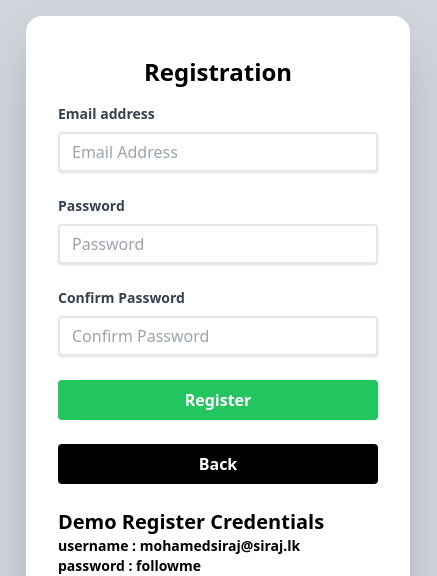
Test: register page › registerw page form submit › unsuccessful submit
The image size is (437, 576).
Click the button "Register": (218, 400) [58,380,378,420]
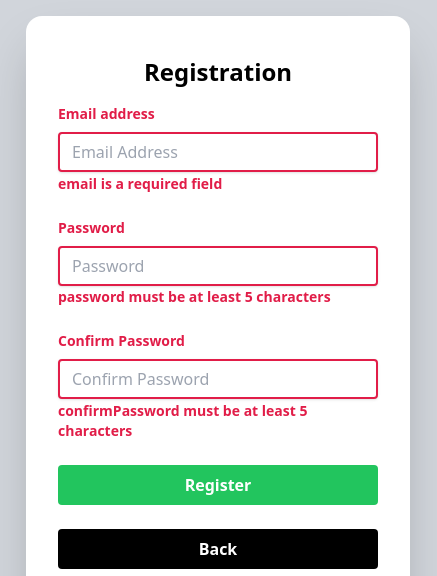
Expected: the text "email is a required field" is shown, [58,174,222,193]
Expected: the text "password must be at least 5 characters" is shown, [58,287,378,307]
Expected: the text "confirmPassword must be at least 5 characters" is shown, [58,401,308,440]
